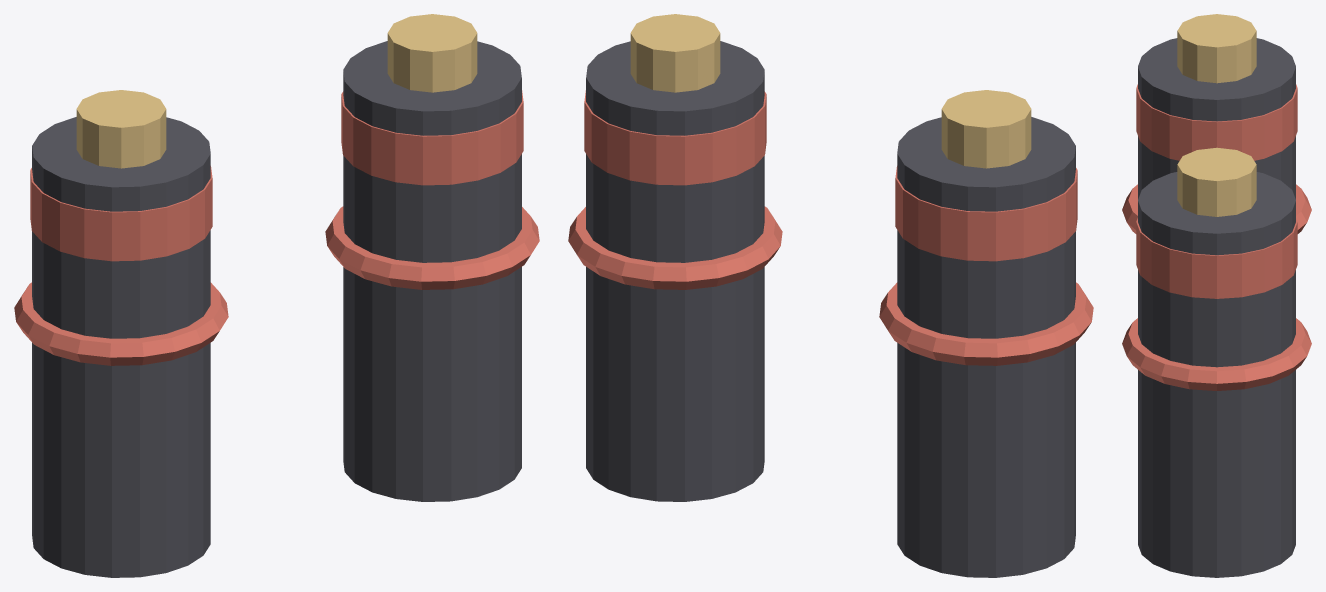
The model's file is item_54_battery.glb.
3 views of the same model, side by side, from view 1: azimuth 30°, elevation 25°; view 2: azimuth 150°, elevation 25°; view 3: azimuth 270°, elevation 25° (orthographic). The views are drawn at different scales.
Parts seen in each view (by area): view 1: I54_Body0, I54_Body1, I54_Ring0, I54_Ring1, I54_Wrap0, I54_Wrap1, I54_Cap0, I54_Cap1; view 2: I54_Body0, I54_Body1, I54_Ring0, I54_Ring1, I54_Wrap0, I54_Wrap1, I54_Cap0, I54_Cap1; view 3: I54_Body1, I54_Body0, I54_Ring1, I54_Ring0, I54_Wrap1, I54_Cap0, I54_Cap1, I54_Wrap0.
Boxes of the visible parts, x1,y1,x2,y2 form: I54_Body0: (32,117,210,577); I54_Body1: (343,41,521,501); I54_Ring0: (30,166,212,261); I54_Ring1: (341,90,523,185); I54_Wrap0: (14,282,228,365); I54_Wrap1: (325,206,539,289); I54_Cap0: (76,90,166,168); I54_Cap1: (387,14,477,92); I54_Body0: (897,117,1075,577); I54_Body1: (586,41,764,501); I54_Ring0: (895,166,1077,261); I54_Ring1: (584,90,766,185); I54_Wrap0: (879,282,1093,365); I54_Wrap1: (568,206,782,289); I54_Cap0: (941,90,1031,168); I54_Cap1: (630,14,720,92); I54_Body1: (1138,172,1295,577); I54_Body0: (1138,38,1295,199); I54_Ring1: (1136,218,1297,298); I54_Ring0: (1136,84,1297,160); I54_Wrap1: (1122,318,1311,390); I54_Cap0: (1177,14,1256,83); I54_Cap1: (1177,147,1256,216); I54_Wrap0: (1122,184,1311,233).
Size of the model in its own units: 0.064 by 0.053 by 0.024.
